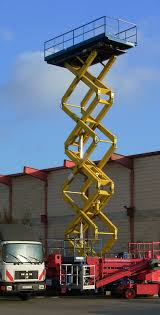Scissor Lift: (42, 15, 139, 315)
